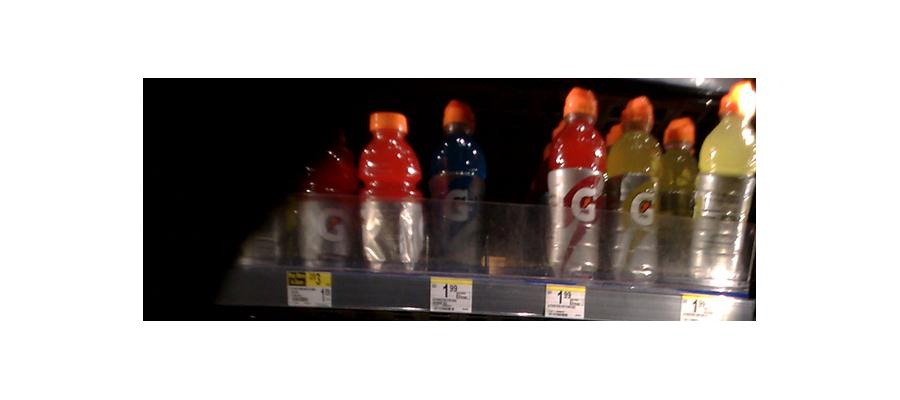bottle: (695, 82, 759, 297), (544, 88, 607, 285), (359, 109, 421, 278), (426, 97, 485, 273), (608, 98, 662, 288), (294, 109, 356, 273), (665, 115, 700, 273)
